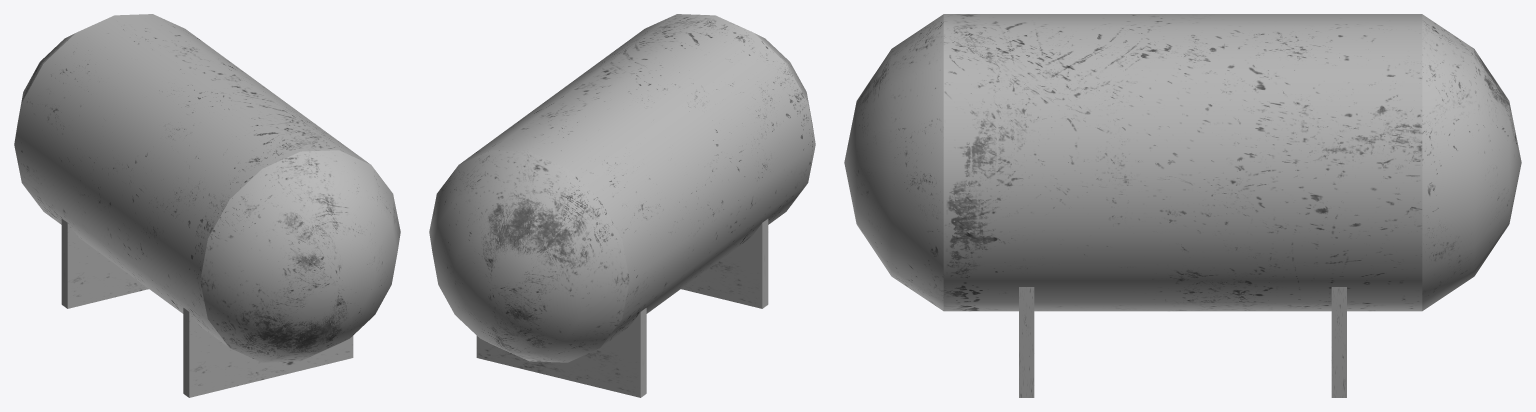
The model's file is propane.glb.
3 views of the same model, side by side, from view 1: azimuth 30°, elevation 25°; view 2: azimuth 150°, elevation 25°; view 3: azimuth 270°, elevation 25° (orthographic). The views are drawn at different scales.
Parts seen in each view (by area): view 1: Hemisphere.002; view 2: Hemisphere.002; view 3: Hemisphere.002.
Part boxes in pixels (box(x1,y1,x2,y2)): Hemisphere.002: box(14, 14, 400, 397); Hemisphere.002: box(429, 14, 815, 397); Hemisphere.002: box(844, 14, 1521, 397).
Bounding box in the file's own units: 11.43 × 13.5 × 25.99.
1 material, 1 textured.
